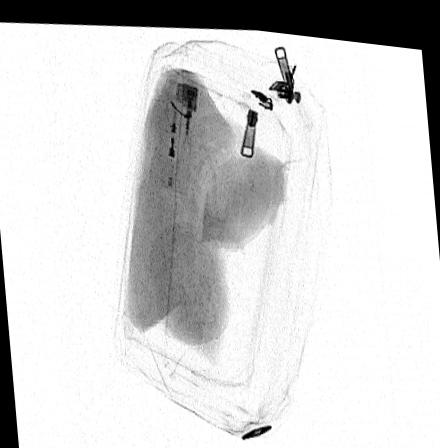Lighter: (159, 73, 198, 194)
